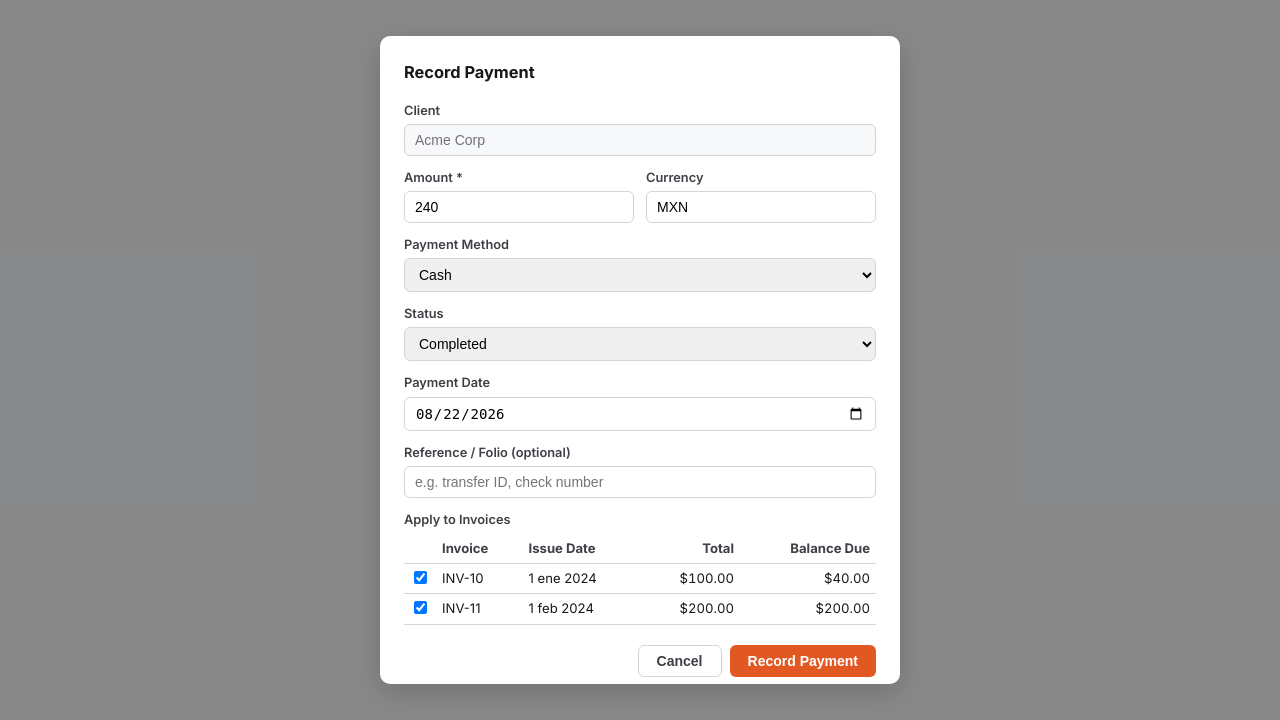
Scenario: RecordPaymentModal › editing the amount directly is preserved and does not uncheck anything
Expected: the text "INV-10" is shown, [436,563,522,594]
Replace the text in the number field with "999" at x=519, y=207, box [404,191,634,223]
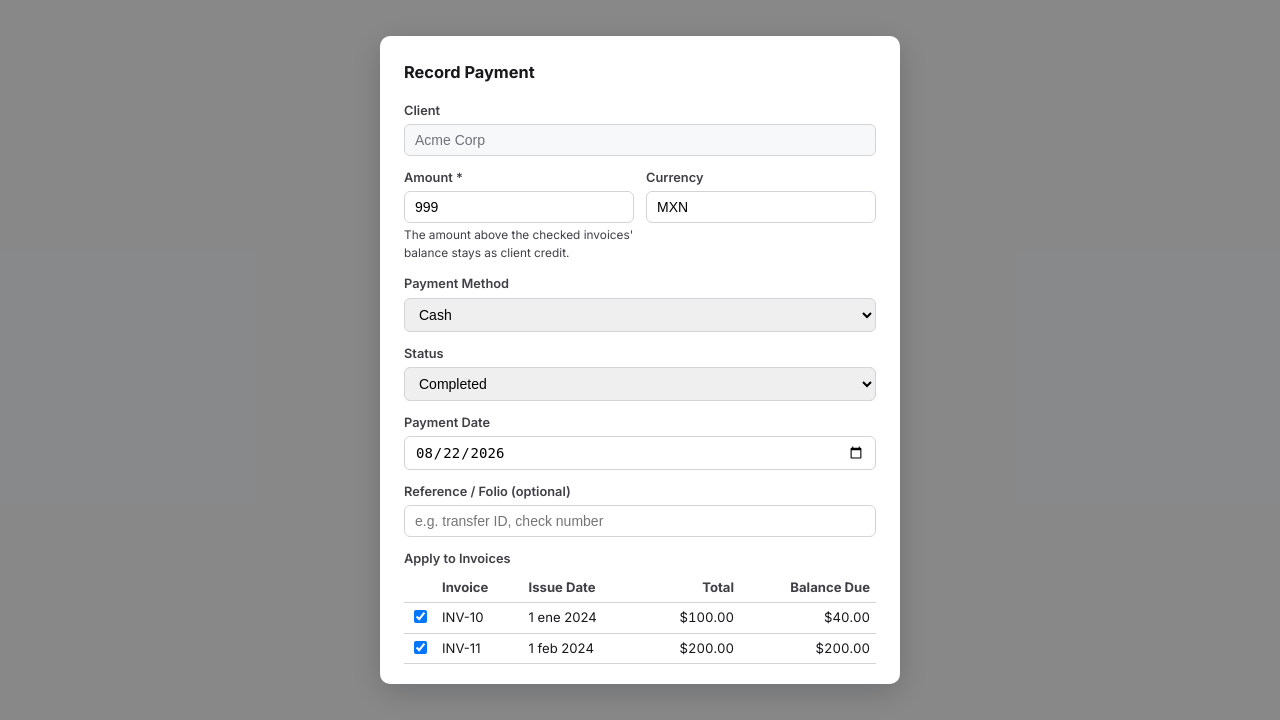
Expected: the checkbox named "INV-10" is checked, [414,610,427,623]
Result: the text "stays as client credit" is shown at [404,228,633,260]
